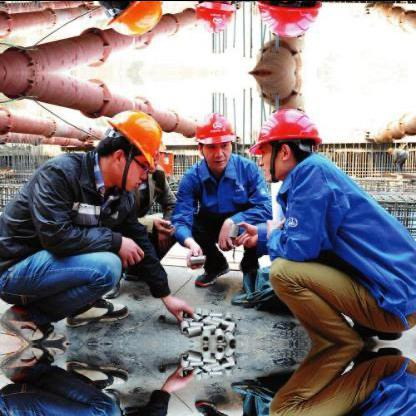Helmet: (91, 105, 161, 189), (249, 102, 323, 176), (187, 105, 235, 169), (249, 0, 324, 40), (90, 0, 162, 38), (186, 0, 235, 38), (384, 144, 394, 152)
